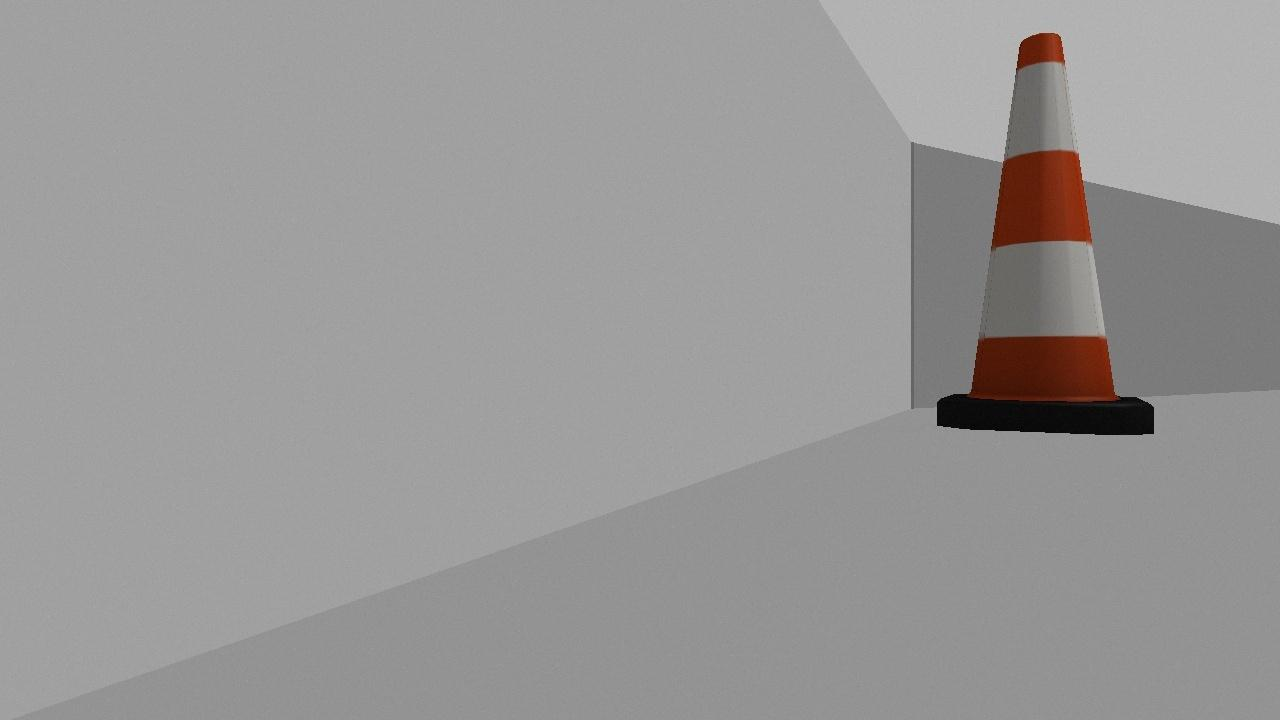cone_barrel: (921, 19, 1167, 449)
